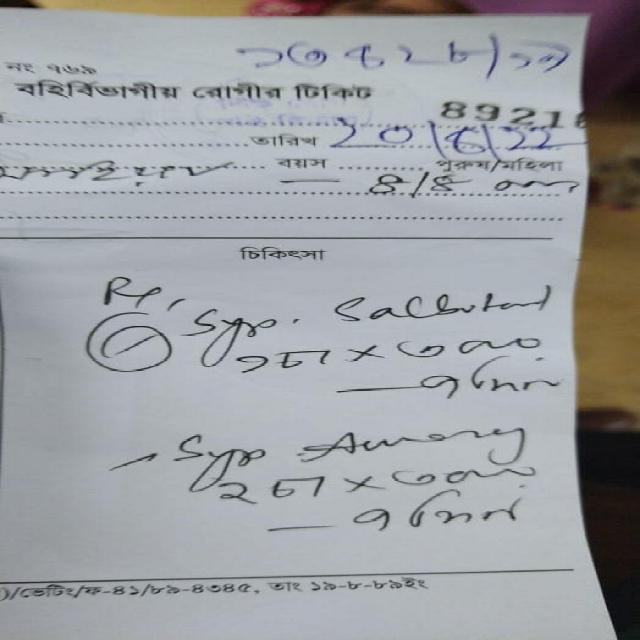Salbutal: (317, 288, 556, 327)
